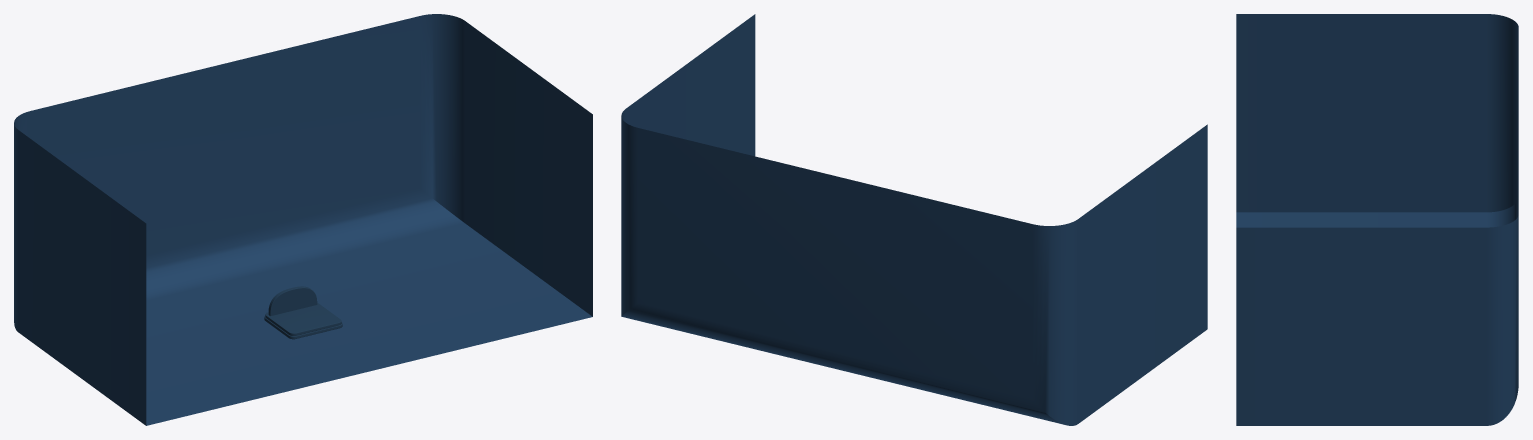
Rendered from animation-01.glb.
The picture shows the model from 3 angles, left to right: view 1: azimuth 30°, elevation 25°; view 2: azimuth 150°, elevation 25°; view 3: azimuth 270°, elevation 25°; orthographic projection. The views are drawn at different scales.
Parts seen in each view (by area): view 1: Floor, Platform02, Arch01; view 2: Floor; view 3: Floor.
Boxes of the visible parts, bbox=[...] form: Floor: bbox=[14, 14, 592, 425]; Platform02: bbox=[265, 302, 341, 335]; Arch01: bbox=[268, 286, 317, 316]; Floor: bbox=[621, 14, 1207, 425]; Floor: bbox=[1236, 14, 1518, 425].
Bounding box in the file's own units: 46.66 × 20.21 × 26.08.
